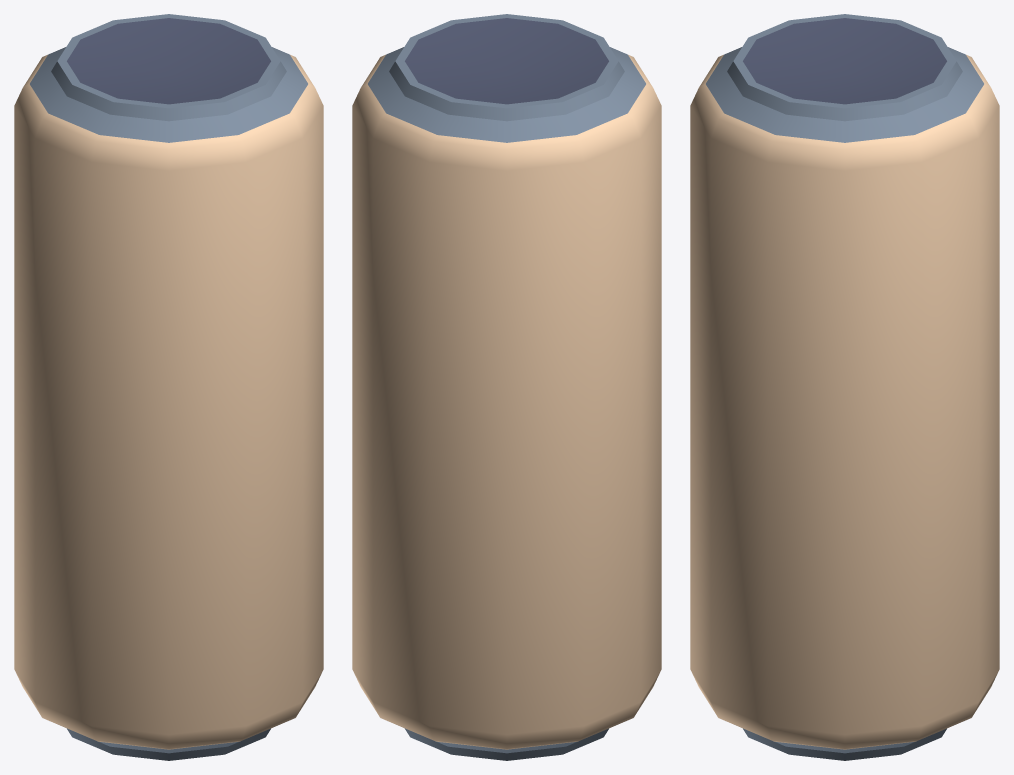
The model's file is LargeCan.fbx.
3 renders of one model, left to right at view 1: azimuth 30°, elevation 25°; view 2: azimuth 150°, elevation 25°; view 3: azimuth 270°, elevation 25°, orthographic.
Parts seen in each view (by area): view 1: LargeCan; view 2: LargeCan; view 3: LargeCan.
Part boxes in pixels (box(x1,y1,x2,y2)): LargeCan: box(14, 14, 323, 760); LargeCan: box(352, 14, 661, 760); LargeCan: box(690, 14, 999, 760).
Size of the model in its own units: 0.1043 by 0.1043 by 0.2429.
